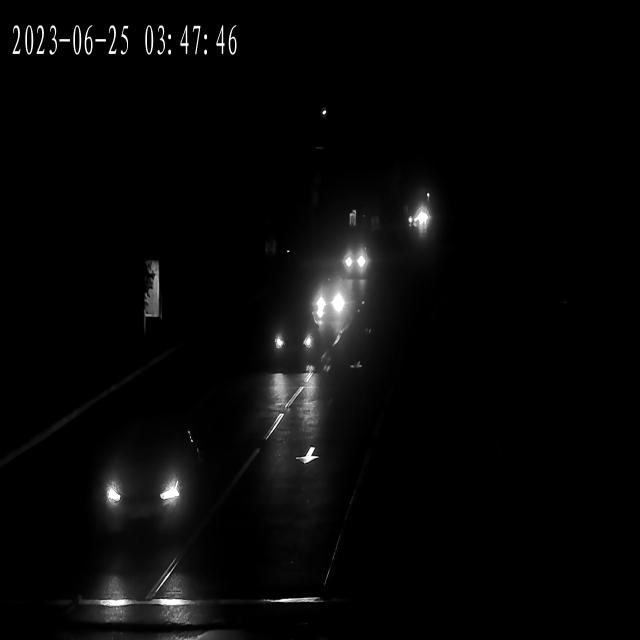Car: (91, 424, 202, 542), (266, 320, 319, 370), (312, 274, 356, 320), (339, 244, 374, 277)
